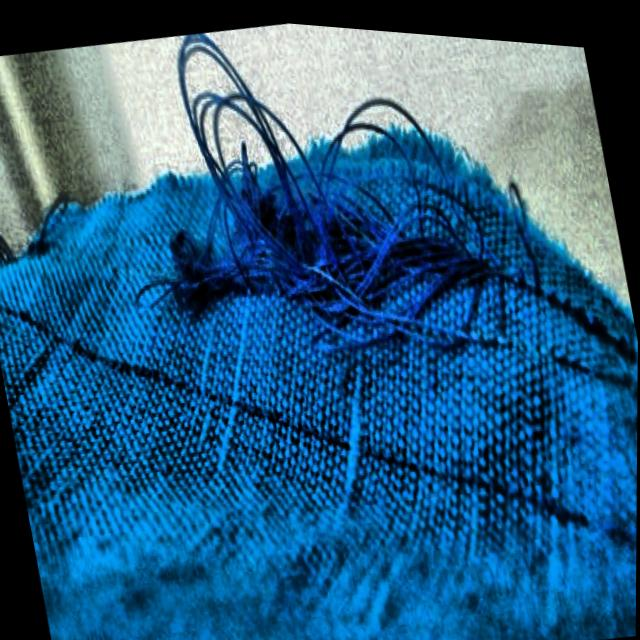Stitch: (114, 7, 568, 448)
